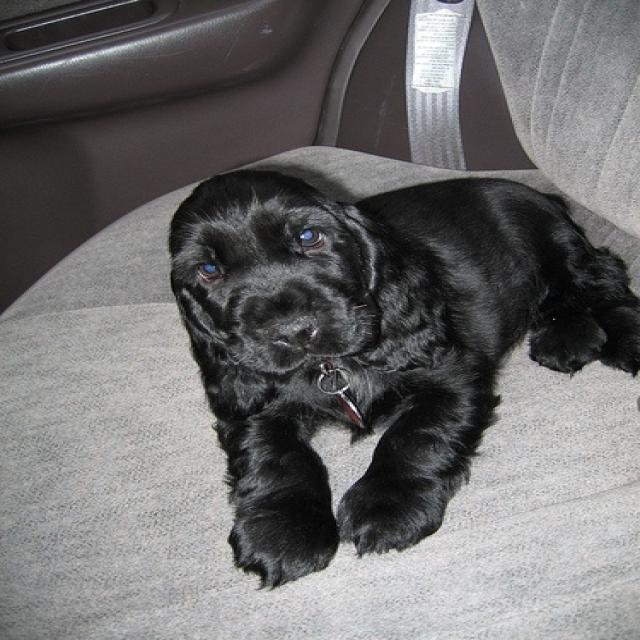dog: (172, 150, 638, 585)
